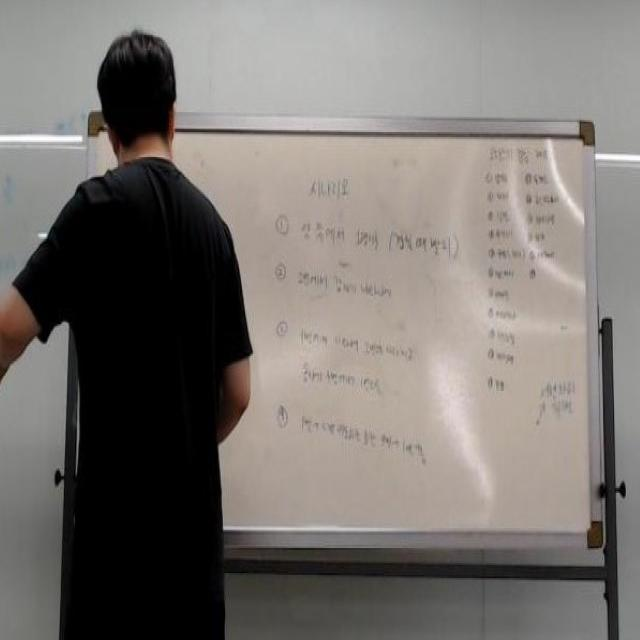Instructor: (60, 25, 224, 601)
White-board: (88, 119, 597, 540)
